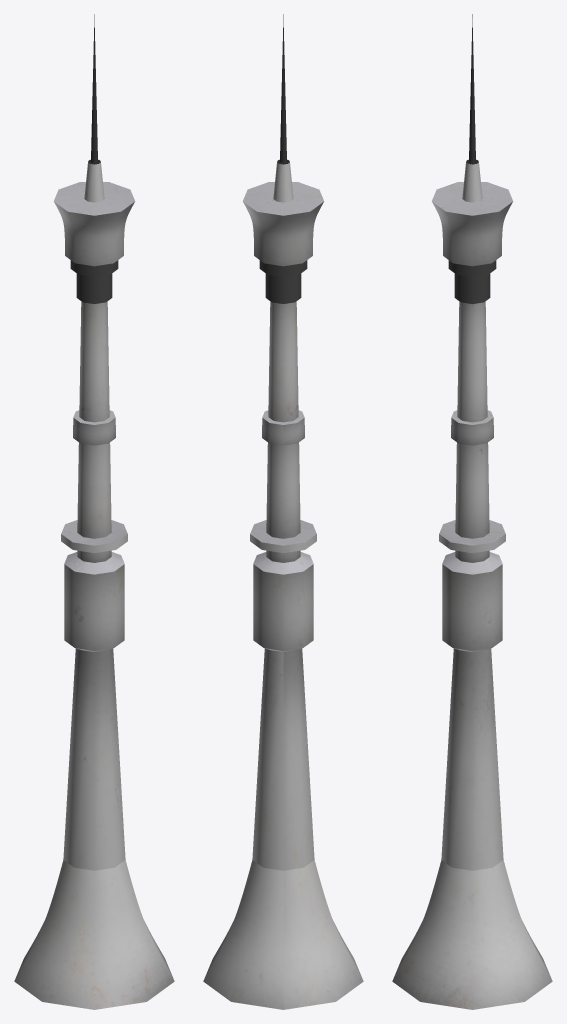
Rendered from basna.FBX.
3 views of the same model, side by side, from view 1: azimuth 30°, elevation 25°; view 2: azimuth 150°, elevation 25°; view 3: azimuth 270°, elevation 25° (orthographic).
Parts seen in each view (by area): view 1: Line019; view 2: Line019; view 3: Line019.
Part boxes in pixels (x1=…): Line019: x1=14, y1=14, x2=174, y2=1009; Line019: x1=203, y1=14, x2=363, y2=1009; Line019: x1=392, y1=14, x2=552, y2=1009.
Size of the model in its own units: 31.37 by 211 by 31.86.
1 material, 1 textured.
